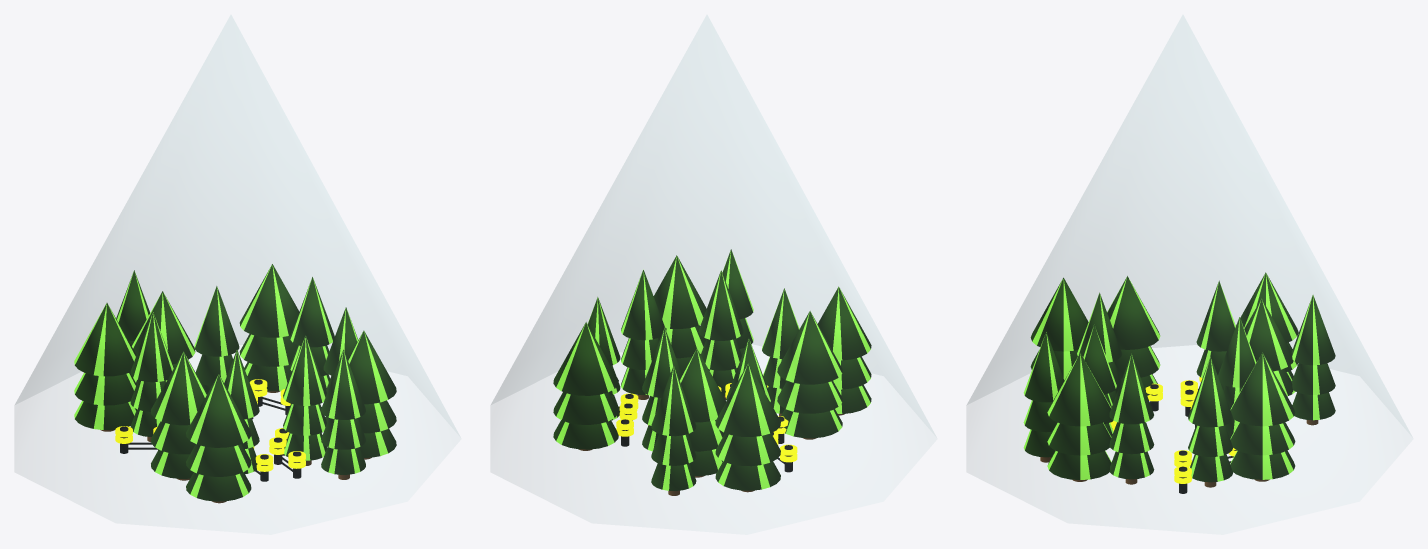
Rendered from park2.glb.
3 renders of one model, left to right at view 1: azimuth 30°, elevation 25°; view 2: azimuth 150°, elevation 25°; view 3: azimuth 270°, elevation 25°, orthographic.
Visible parts, largest first — view 1: Park2; view 2: Park2; view 3: Park2.
Part boxes in pixels (x1,y1,x2,y2): Park2: (15, 15, 460, 533); Park2: (491, 15, 936, 534); Park2: (967, 15, 1412, 534).
Bounding box in the file's own units: 66.37 × 68.49 × 65.36.
